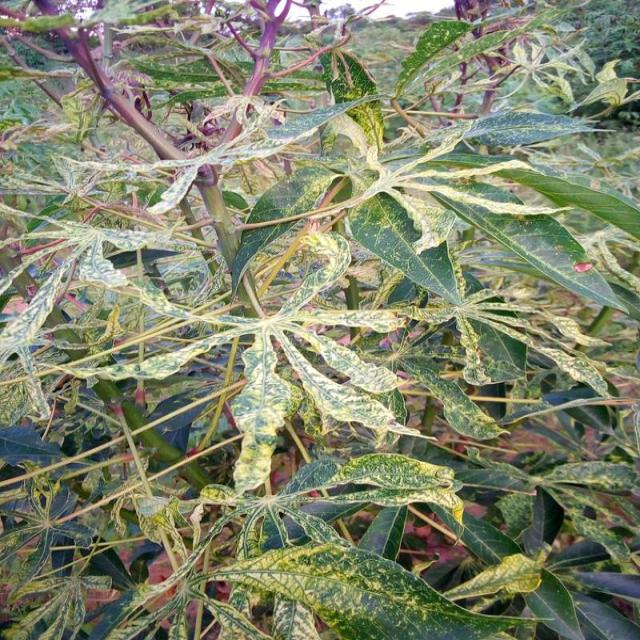cassava leaf: (0, 1, 638, 638), (208, 537, 538, 638)
